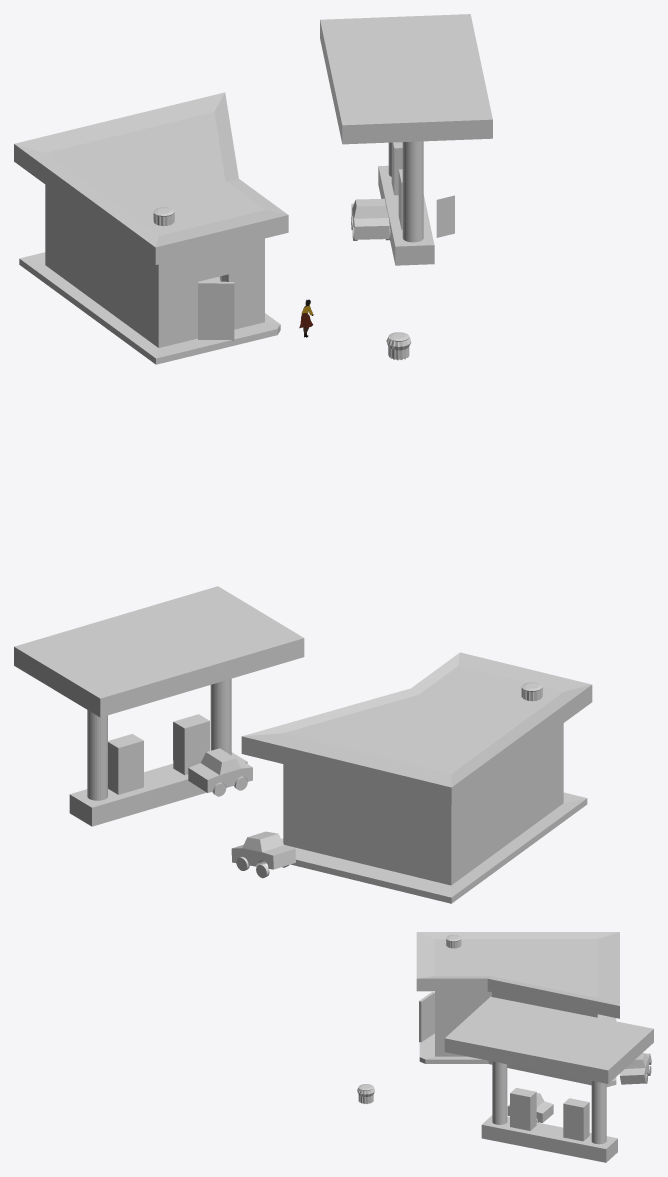
3 views of the same model, one above another, from view 1: azimuth 30°, elevation 25°; view 2: azimuth 150°, elevation 25°; view 3: azimuth 270°, elevation 25° (orthographic). The views are drawn at different scales.
Parts seen in each view (by area): view 1: building.002, carport_roof.002, carport_base.002, carport_pillar_near.002, door.002, car_body.002, chester.002, roof_turbine.002; view 2: building.002, carport_roof.002, carport_base.002, car_body.002, carport_pillar_far.002, wrecked_car_body.002, carport_pillar_near.002; view 3: building.002, carport_roof.002, carport_base.002, carport_pillar_near.002, carport_pillar_far.002, wrecked_car_body.002, door.002, car_body.002.
Part boxes in pixels (left/top/right/bottom): building.002: left=14, top=92, right=288, bottom=364; carport_roof.002: left=320, top=14, right=492, bottom=144; carport_base.002: left=378, top=142, right=434, bottom=265; carport_pillar_near.002: left=402, top=141, right=423, bottom=242; door.002: left=198, top=281, right=234, bottom=340; car_body.002: left=351, top=198, right=389, bottom=239; chester.002: left=436, top=195, right=454, bottom=237; roof_turbine.002: left=386, top=332, right=411, bottom=360; building.002: left=241, top=652, right=592, bottom=903; carport_roof.002: left=14, top=586, right=304, bottom=717; carport_base.002: left=69, top=714, right=247, bottom=826; car_body.002: left=188, top=748, right=252, bottom=792; carport_pillar_far.002: left=87, top=710, right=107, bottom=800; wrecked_car_body.002: left=231, top=831, right=295, bottom=869; carport_pillar_near.002: left=210, top=678, right=231, bottom=755; building.002: left=416, top=932, right=619, bottom=1086; carport_roof.002: left=444, top=996, right=653, bottom=1083; carport_base.002: left=481, top=1087, right=617, bottom=1162; carport_pillar_near.002: left=492, top=1061, right=507, bottom=1124; carport_pillar_far.002: left=591, top=1081, right=606, bottom=1144; wrecked_car_body.002: left=619, top=1053, right=651, bottom=1084; door.002: left=419, top=992, right=434, bottom=1042; car_body.002: left=507, top=1093, right=553, bottom=1122.
Size of what is drawn, in the model's own units: 4920 by 1678 by 8463.
